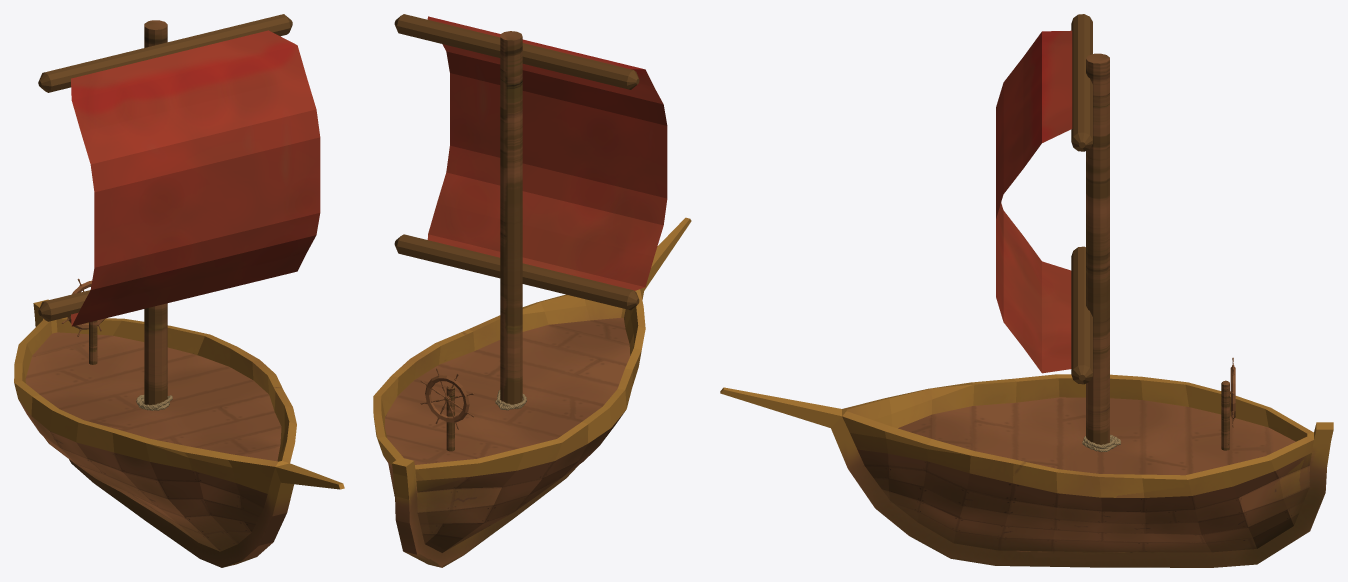
The model's file is boaty_is_done.fbx.
3 renders of one model, left to right at view 1: azimuth 30°, elevation 25°; view 2: azimuth 150°, elevation 25°; view 3: azimuth 270°, elevation 25°, orthographic. The views are drawn at different scales.
Parts seen in each view (by area): view 1: sail, boat, floor, mast; view 2: sail, boat, floor, mast, wheel, rack; view 3: boat, floor, sail, mast.
Part boxes in pixels (bbox=[...]): sail: bbox=[71, 30, 320, 326]; boat: bbox=[14, 299, 344, 567]; floor: bbox=[25, 332, 281, 461]; mast: bbox=[38, 14, 292, 405]; sail: bbox=[427, 16, 667, 290]; boat: bbox=[373, 217, 691, 567]; floor: bbox=[384, 317, 630, 464]; mast: bbox=[394, 14, 639, 404]; wheel: bbox=[420, 368, 473, 429]; rack: bbox=[445, 385, 454, 451]; boat: bbox=[720, 374, 1333, 567]; floor: bbox=[898, 397, 1295, 475]; sail: bbox=[996, 30, 1072, 373]; mast: bbox=[1071, 14, 1109, 447].
Size of the model in its own units: 3415 by 6461 by 7107.
2 materials, 1 textured.
